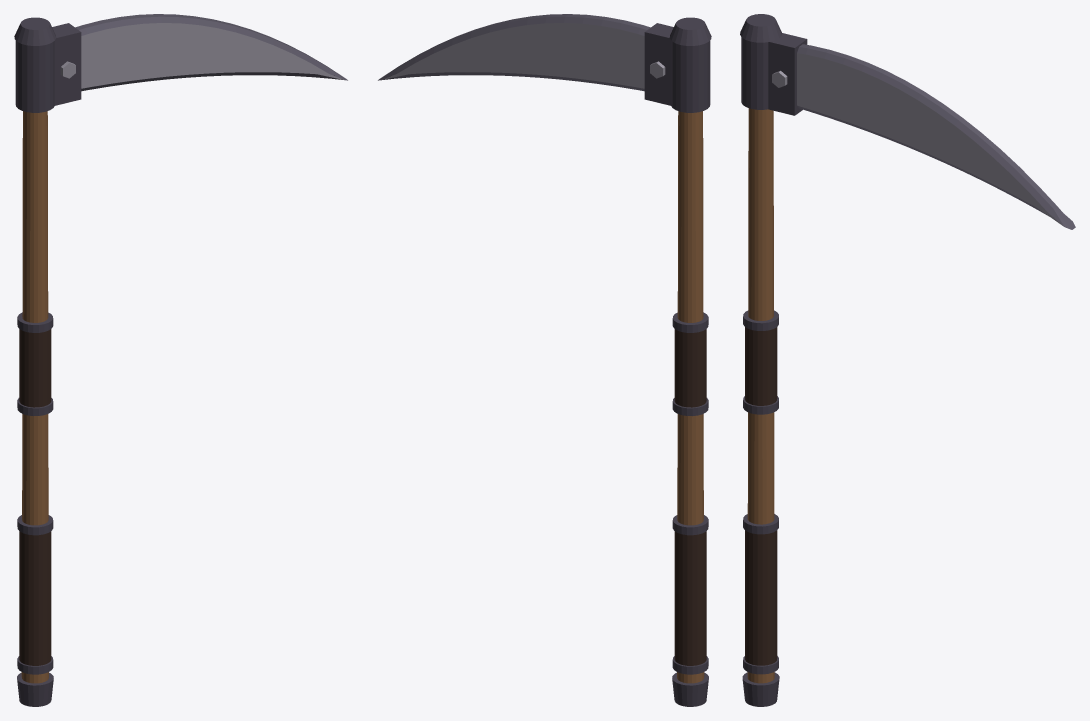
File: Scythe.ready.glb
3 renders of one model, left to right at view 1: azimuth 30°, elevation 25°; view 2: azimuth 150°, elevation 25°; view 3: azimuth 330°, elevation 25°, orthographic.
Parts seen in each view (by area): view 1: Scythe; view 2: Scythe; view 3: Scythe.
Boxes of the visible parts, bbox=[...] form: Scythe: bbox=[14, 14, 347, 706]; Scythe: bbox=[378, 14, 711, 706]; Scythe: bbox=[740, 14, 1075, 706].
Size of the model in its own units: 3.07 by 6.02 by 0.34.
Materials: 1 (1 with a texture image).
